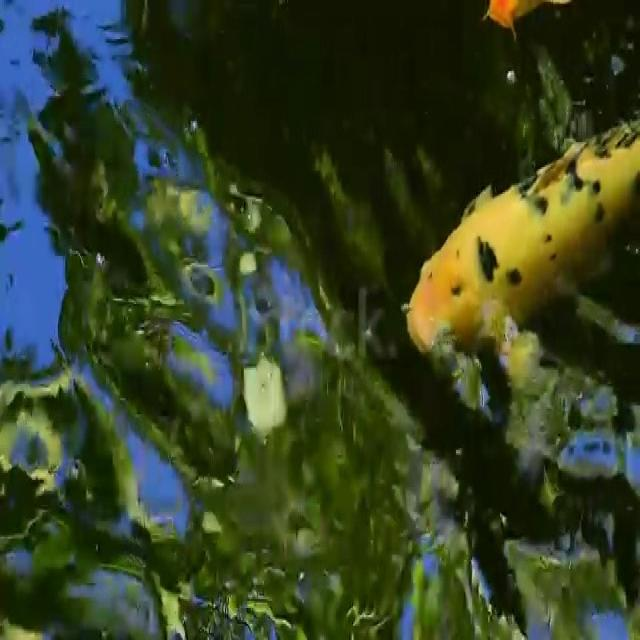fish: (401, 120, 640, 374)
